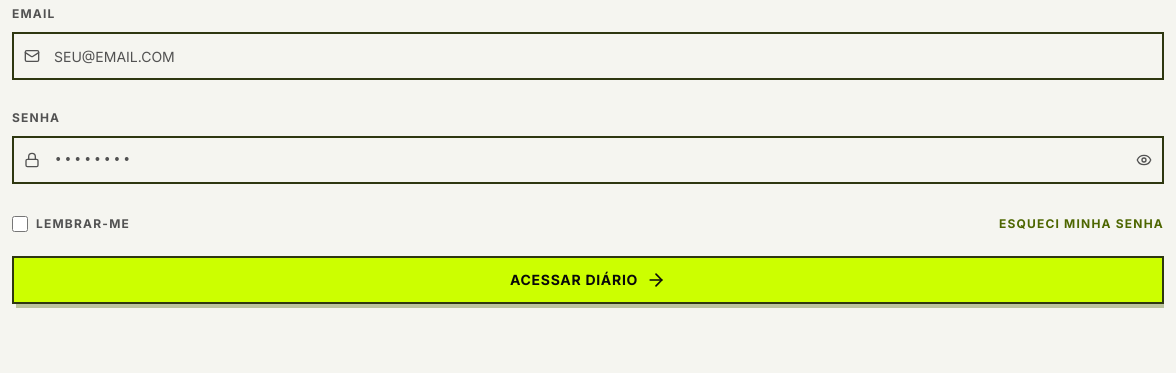
it: LoginForm › deve exibir erro se enviar vazio
Click the button "Acessar Diário" at {"x": 588, "y": 280}, box [12,256,1164,304]
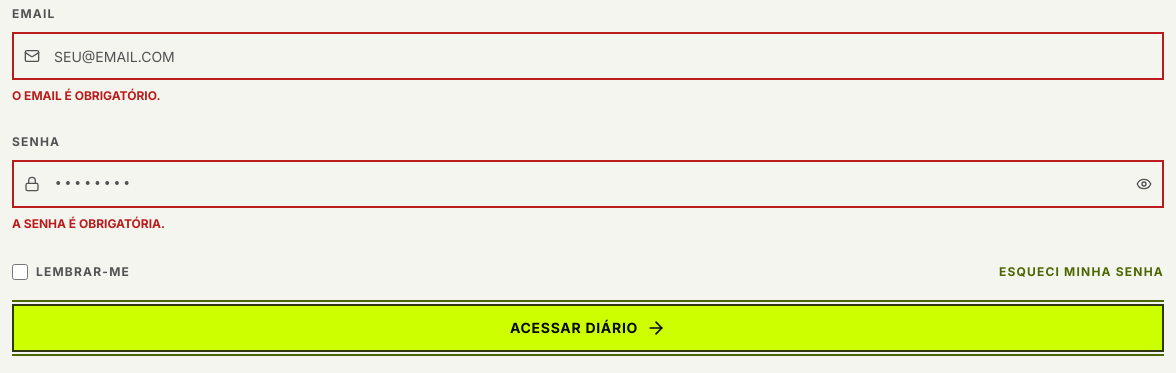
Expected: the text "O email é obrigatório." is shown, [12,88,160,103]
Expected: the text "A senha é obrigatória." is shown, [12,216,165,231]
